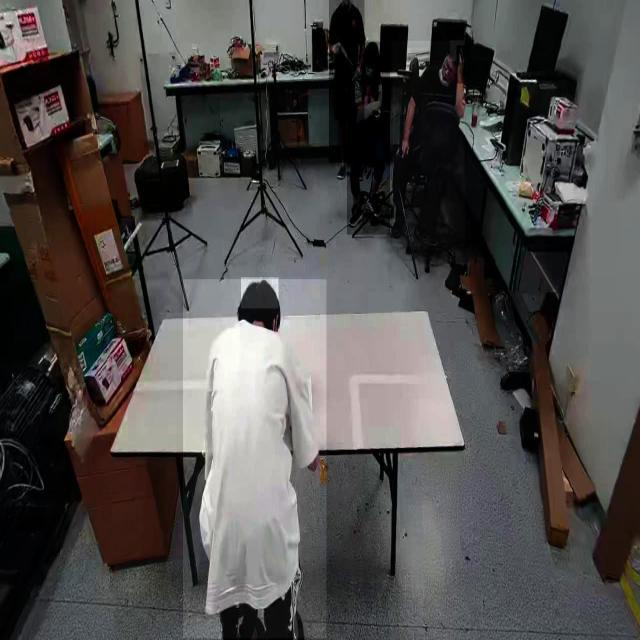face_mask: (362, 54, 380, 86)
hand_noglove: (456, 46, 466, 84), (395, 136, 410, 160), (364, 75, 374, 97)
head_nohelmet: (241, 278, 279, 310), (450, 40, 465, 62), (365, 40, 379, 54)
person: (183, 279, 327, 639), (392, 41, 466, 247), (347, 42, 391, 235), (329, 0, 365, 164)
